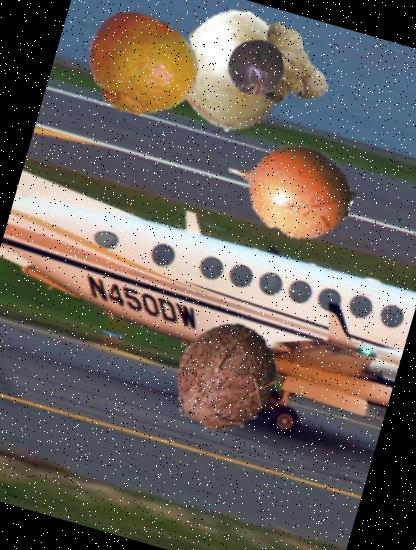Cocos: (154, 306, 296, 448)
Ginger: (236, 11, 344, 119)
Granadilla: (210, 109, 368, 267)
Mandarine: (70, 0, 212, 138)
Onion: (157, 0, 309, 146)
Passion: (219, 32, 292, 105)
